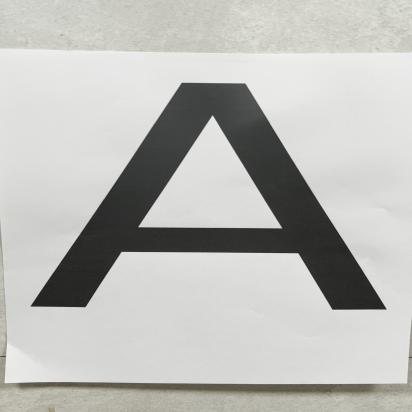seat: (37, 68, 412, 330)
